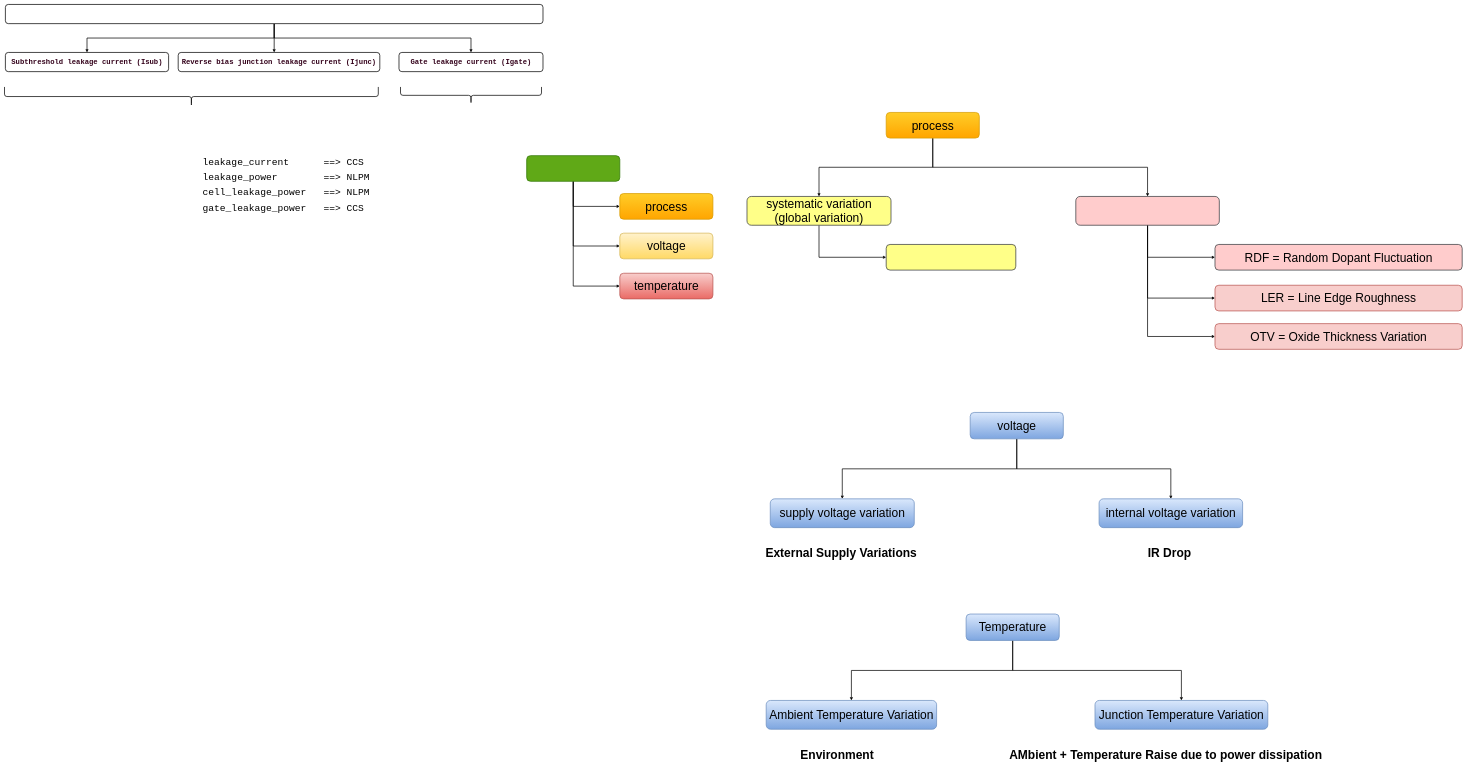
This 1467x767 diagram has some shape labels left out. Each missing label, with the centre of its shape:
gate leakage power: [471,95]
Intrinsic leakage power: [191,96]
non-systematic variation (local variations): [1147,210]
optical proximity CMP: [951,257]
Static Power [Leakage Power]: [274,14]
Variations: [573,168]
